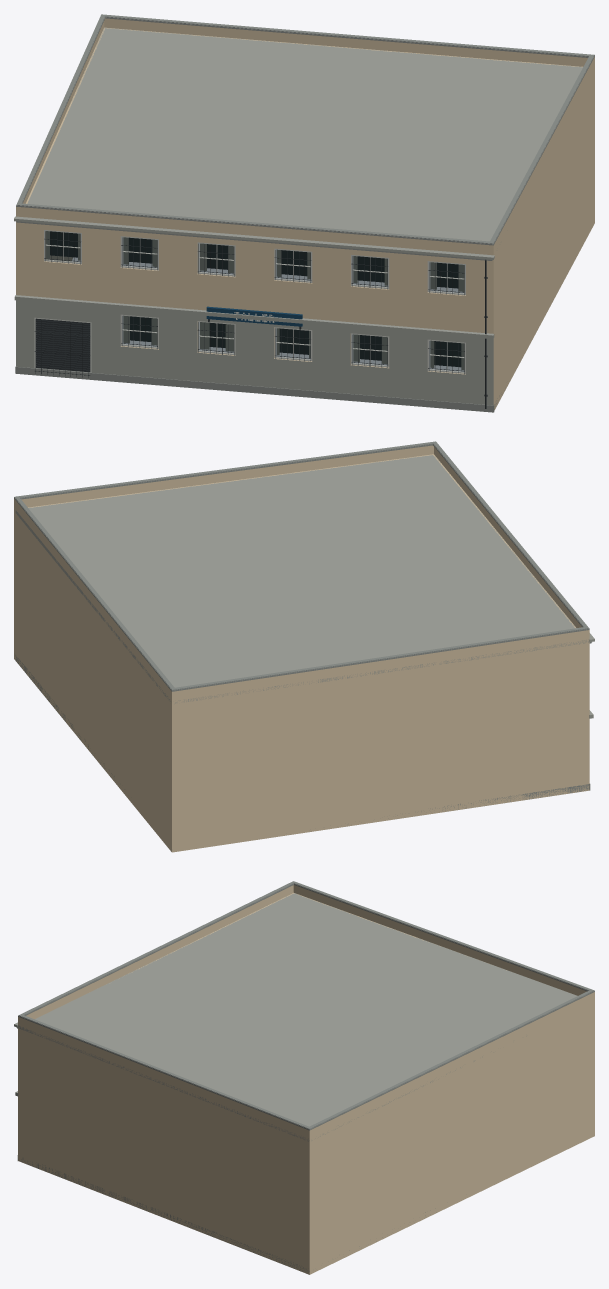
Rendered from building.glb.
3 renders of one model, top to bottom at view 1: azimuth 30°, elevation 25°; view 2: azimuth 150°, elevation 25°; view 3: azimuth 270°, elevation 25°, orthographic. The views are drawn at different scales.
Visible parts, largest first — view 1: roof/main:0/roof_slab#0001, main:0/edge0/z0/main:0/edge0/z0/wall_0_0, main:0/edge0/z0/main:0/edge0/z0/coating_0_0_0, main:0/edge1/z0/main:0/edge1/z0/wall_0_0/core0, roof/main:0/parapet#0001, roof/main:0/parapet_cap#0002, main:0/edge0/z0/plinth#0001, main:0/edge0/z0/floor_slab#0001, roof/main:0/parapet_cap#0001, main:0/edge0/z0/top_cornice#0001, main:0/edge0/z0/opening_u15.48_v1.45/glazing#0001, main:0/edge0/z0/opening_u12.59_v1.45/glazing#0001 (+17 smaller); view 2: roof/main:0/roof_slab#0001, main:0/edge3/z0/main:0/edge3/z0/wall_0_0/core0, main:0/edge2/z0/main:0/edge2/z0/wall_0_0/core0, roof/main:0/parapet#0001, roof/main:0/parapet_cap#0002, roof/main:0/parapet_cap#0001; view 3: roof/main:0/roof_slab#0001, main:0/edge1/z0/main:0/edge1/z0/wall_0_0/core0, main:0/edge2/z0/main:0/edge2/z0/wall_0_0/core0, roof/main:0/parapet#0001, roof/main:0/parapet_cap#0002, roof/main:0/parapet_cap#0001, main:0/edge1/z0/plinth#0001.
Boxes of the visible parts, <box> form: roof/main:0/roof_slab#0001: <box>27,27,582,241</box>; main:0/edge0/z0/main:0/edge0/z0/wall_0_0: <box>16,221,493,374</box>; main:0/edge0/z0/main:0/edge0/z0/coating_0_0_0: <box>16,300,493,405</box>; main:0/edge1/z0/main:0/edge1/z0/wall_0_0/core0: <box>493,66,594,409</box>; roof/main:0/parapet#0001: <box>16,18,594,255</box>; roof/main:0/parapet_cap#0002: <box>16,14,594,243</box>; main:0/edge0/z0/plinth#0001: <box>16,366,493,412</box>; main:0/edge0/z0/floor_slab#0001: <box>14,295,494,339</box>; roof/main:0/parapet_cap#0001: <box>16,15,594,245</box>; main:0/edge0/z0/top_cornice#0001: <box>14,216,494,259</box>; main:0/edge0/z0/opening_u15.48_v1.45/glazing#0001: <box>429,340,464,371</box>; main:0/edge0/z0/opening_u12.59_v1.45/glazing#0001: <box>352,334,387,365</box>; roof/main:0/roof_slab#0001: <box>15,455,588,703</box>; main:0/edge3/z0/main:0/edge3/z0/wall_0_0/core0: <box>172,639,589,852</box>; main:0/edge2/z0/main:0/edge2/z0/wall_0_0/core0: <box>15,513,171,851</box>; roof/main:0/parapet#0001: <box>14,445,589,701</box>; roof/main:0/parapet_cap#0002: <box>14,441,589,690</box>; roof/main:0/parapet_cap#0001: <box>14,444,589,691</box>; roof/main:0/roof_slab#0001: <box>18,893,577,1141</box>; main:0/edge1/z0/main:0/edge1/z0/wall_0_0/core0: <box>18,1026,309,1274</box>; main:0/edge2/z0/main:0/edge2/z0/wall_0_0/core0: <box>309,1000,594,1274</box>; roof/main:0/parapet#0001: <box>18,885,594,1138</box>; roof/main:0/parapet_cap#0002: <box>18,881,594,1129</box>; roof/main:0/parapet_cap#0001: <box>18,884,594,1130</box>; main:0/edge1/z0/plinth#0001: <box>18,1158,309,1274</box>.
Bounding box in the file's own units: 25.26 × 6.87 × 24.81.
